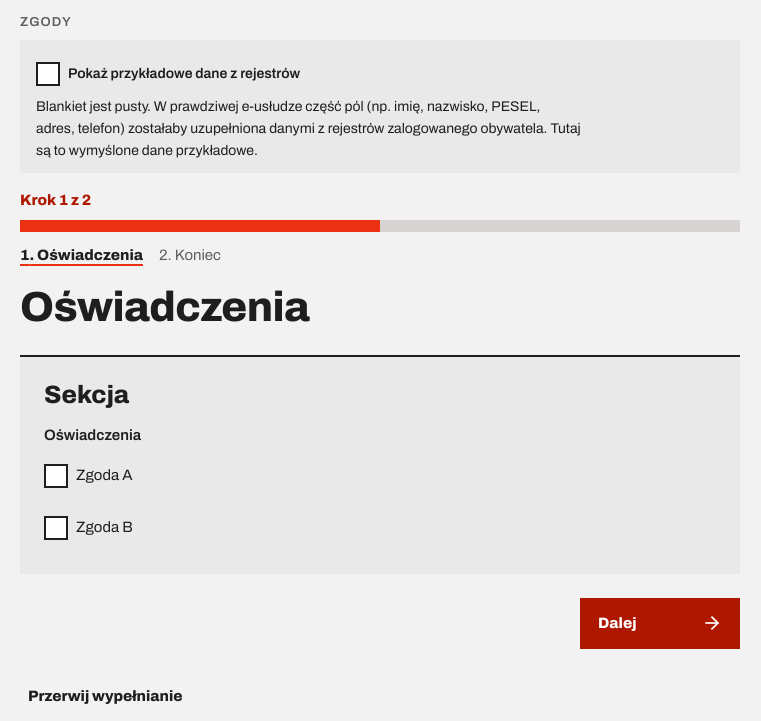
Test: consents › a required consent does not block Dalej in the preview
Click the button "Dalej" at [660, 623], box [580,598,740,649]
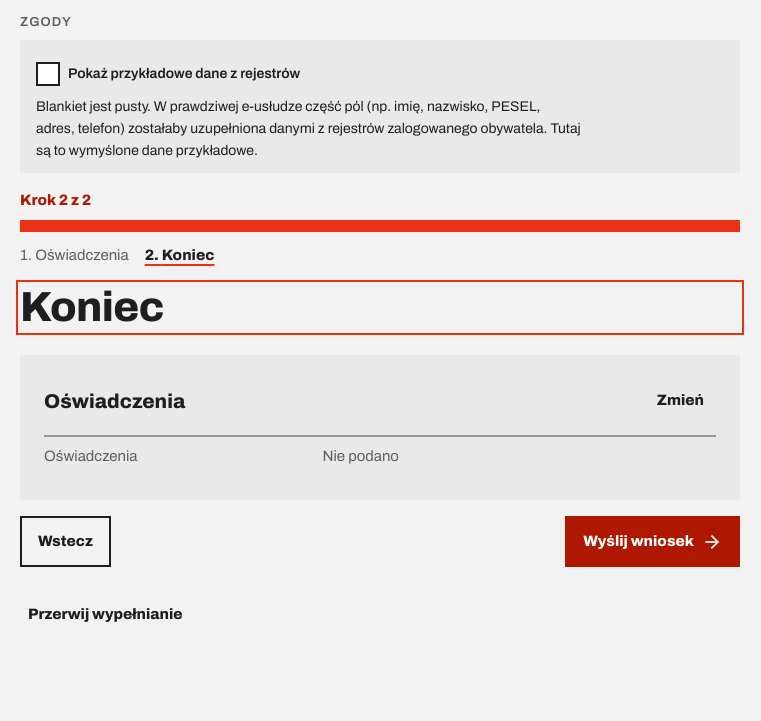
Expected: the heading "Koniec" is shown, [20,284,164,330]
